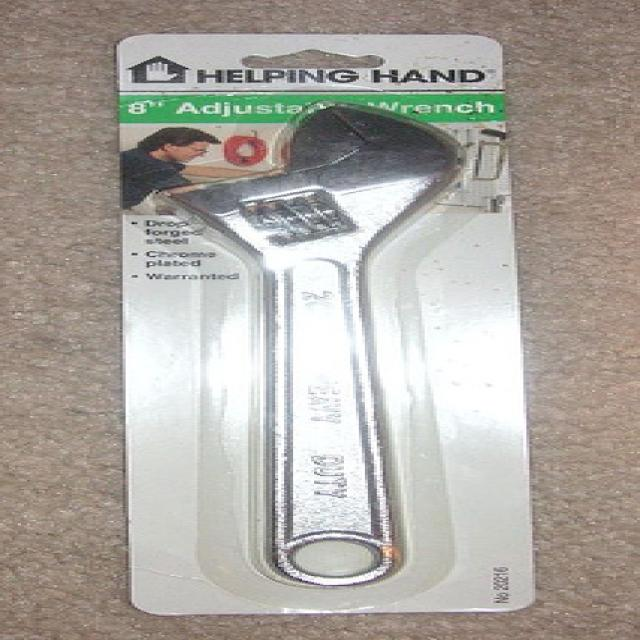wrench: (146, 107, 492, 588)
